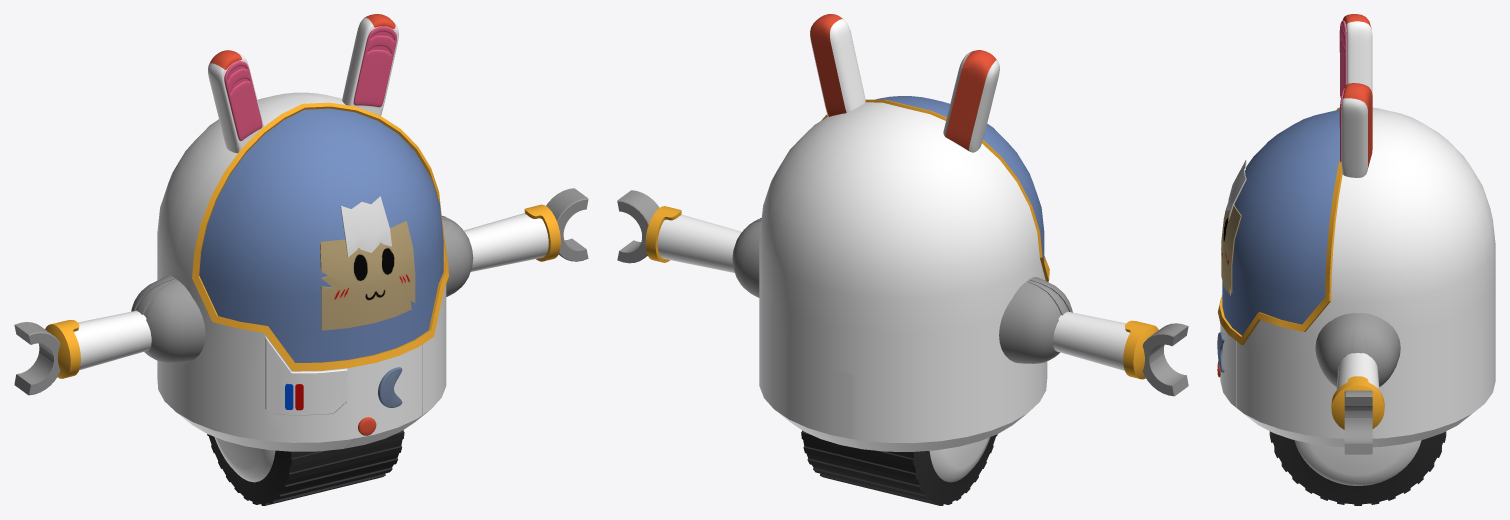
File: Character.fbx
3 views of the same model, side by side, from view 1: azimuth 30°, elevation 25°; view 2: azimuth 150°, elevation 25°; view 3: azimuth 270°, elevation 25° (orthographic). The views are drawn at different scales.
Visible parts, largest first — view 1: Sphere.001, Sphere, Cube.002, Sphere.005, Cylinder, Sphere.007, Cylinder.007, Sphere.002, Cylinder.005, Cylinder.006, Cylinder.009, Sphere.006 (+6 smaller); view 2: Sphere, Cube.002, Cylinder, Cylinder.007, Cylinder.005, Cylinder.006, Sphere.001, Cylinder.009, Cylinder.003, Cylinder.002, Cylinder.010, Cylinder.008 (+2 smaller); view 3: Sphere, Sphere.001, Cube.002, Cylinder, Cylinder.003, Cylinder.010, Sphere.007, Cylinder.002, Cylinder.004, Sphere.005, Cylinder.005, Sphere.006.
Part boxes in pixels (x1,y1,x2,y2): Sphere.001: (199,108,443,362); Sphere: (157,92,446,451); Cube.002: (208,14,398,153); Sphere.005: (320,221,415,330); Cylinder: (207,430,404,505); Sphere.007: (192,102,448,371); Cylinder.007: (131,276,205,363); Sphere.002: (265,336,347,415); Cylinder.005: (464,213,548,271); Cylinder.006: (74,310,151,370); Cylinder.009: (14,322,60,395); Sphere.006: (340,196,391,257); Sphere: (759,102,1047,451); Cube.002: (810,14,999,152); Cylinder: (801,430,997,505); Cylinder.007: (999,277,1072,363); Cylinder.005: (657,214,741,272); Cylinder.006: (1053,311,1129,370); Sphere.001: (875,96,1044,262); Cylinder.009: (1142,323,1188,396); Cylinder.003: (732,218,761,297); Cylinder.002: (617,190,659,263); Cylinder.010: (929,437,990,482); Cylinder.008: (1123,320,1158,379); Sphere: (1220,107,1495,447); Sphere.001: (1222,110,1339,335); Cube.002: (1339,14,1372,177); Cylinder: (1269,431,1446,505); Cylinder.003: (1315,313,1400,387); Cylinder.010: (1294,440,1421,485); Sphere.007: (1218,107,1342,344); Cylinder.002: (1344,390,1372,454); Cylinder.004: (1331,376,1384,429); Sphere.005: (1221,204,1241,295); Cylinder.005: (1336,353,1379,390); Sphere.006: (1226,159,1246,220).
Bounding box in the file's own units: 683 × 528 × 310.
Materials: 12 (1 with a texture image).
